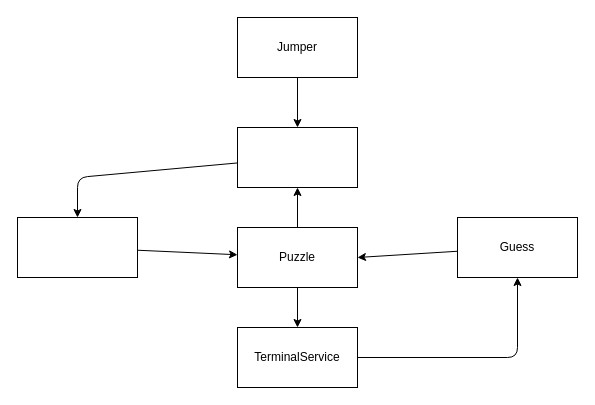
This 595x405 diagram has some shape labels left out. Each missing label, with the centre of its shape:
Director: the point at 297,157
Word: the point at 77,247
